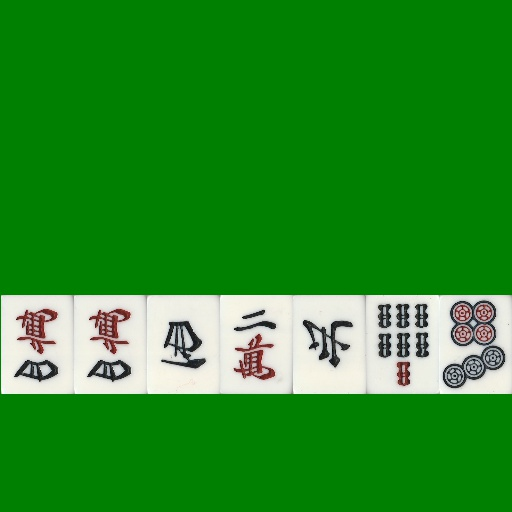2m: (220, 295, 293, 394)
4m: (1, 295, 74, 394), (74, 295, 147, 394)
7p: (439, 295, 512, 394)
7s: (366, 295, 439, 394)
north: (293, 295, 366, 394)
west: (147, 295, 220, 394)
